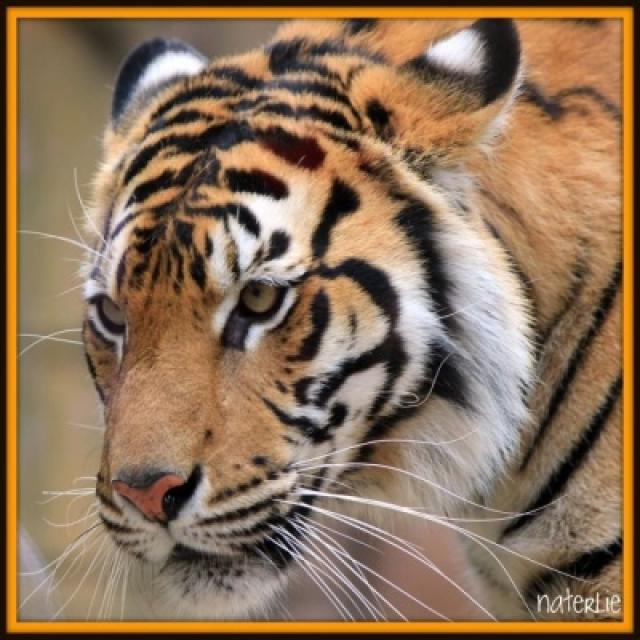Tiger: (77, 16, 622, 624)
